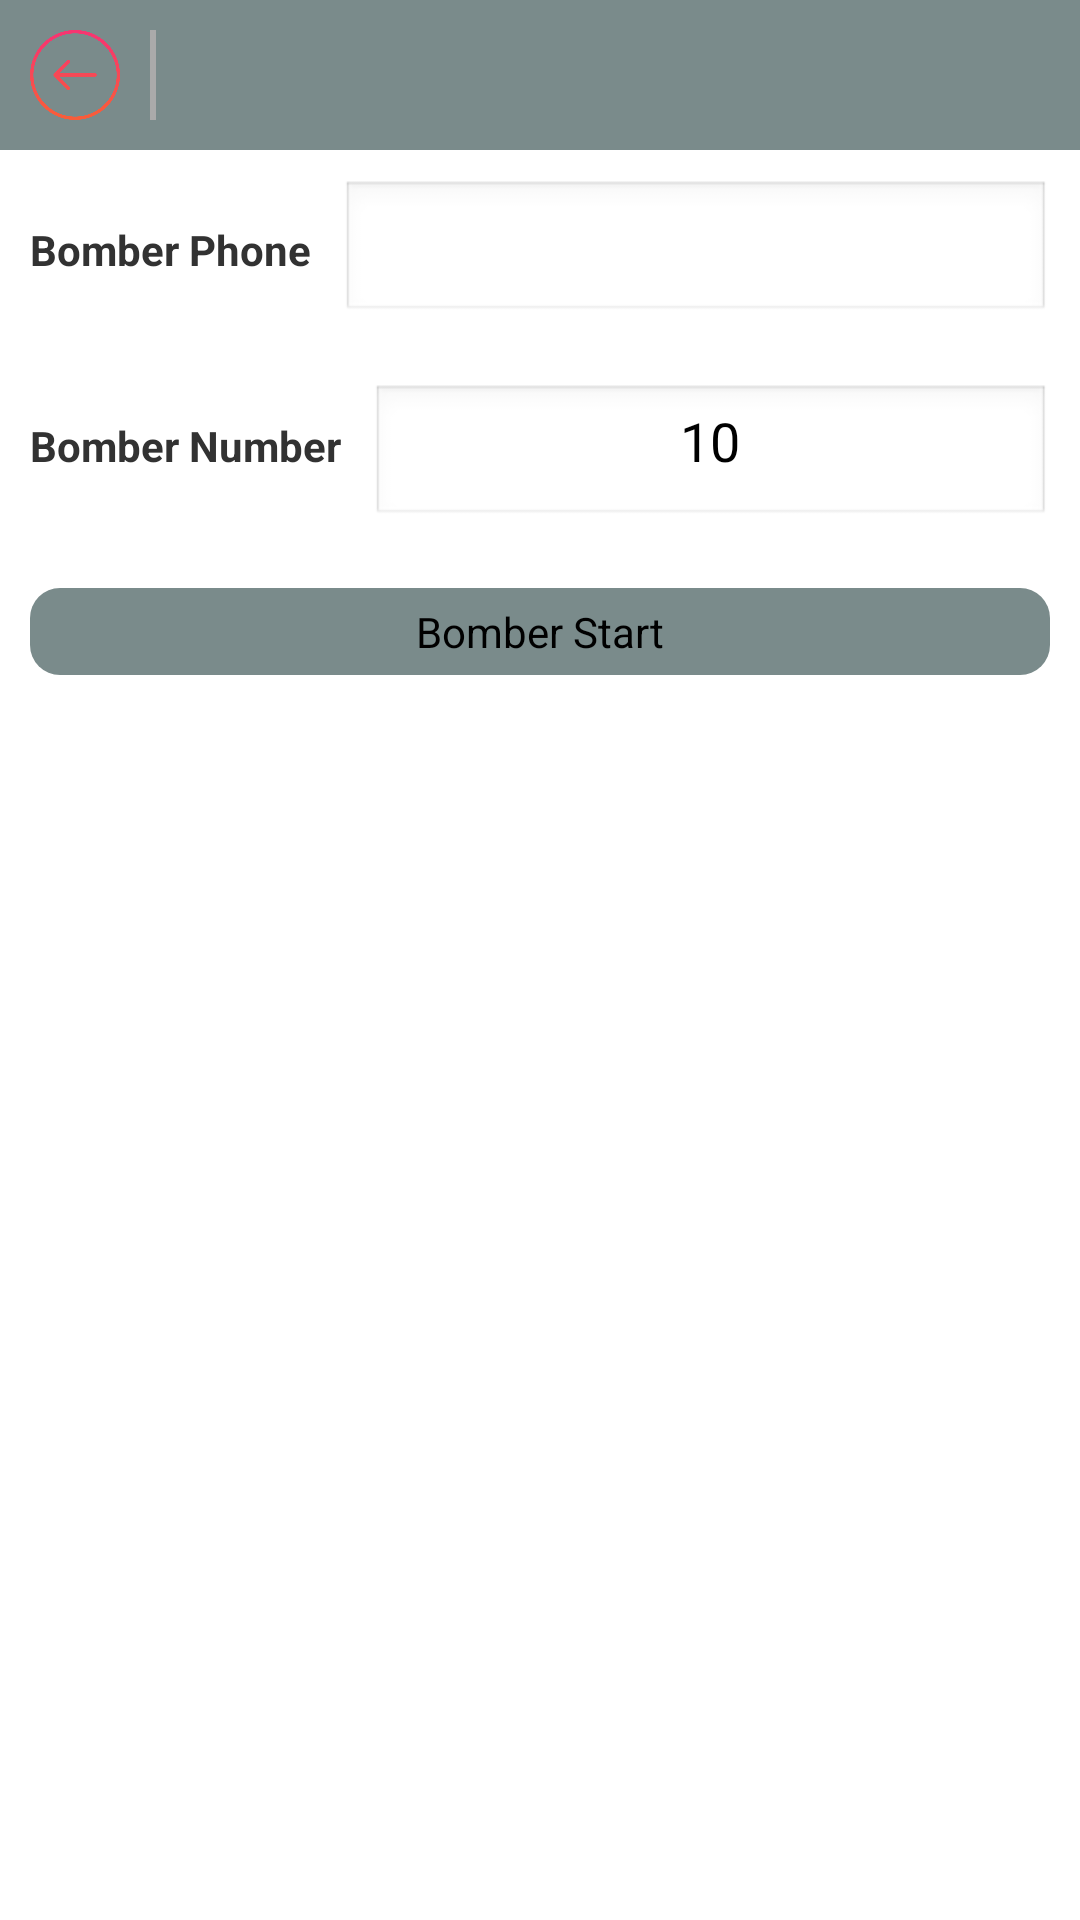

Where to tap for icons on this 1080w x 1920h app screen, as (x=x, y=y):
return: (x=75, y=75)
